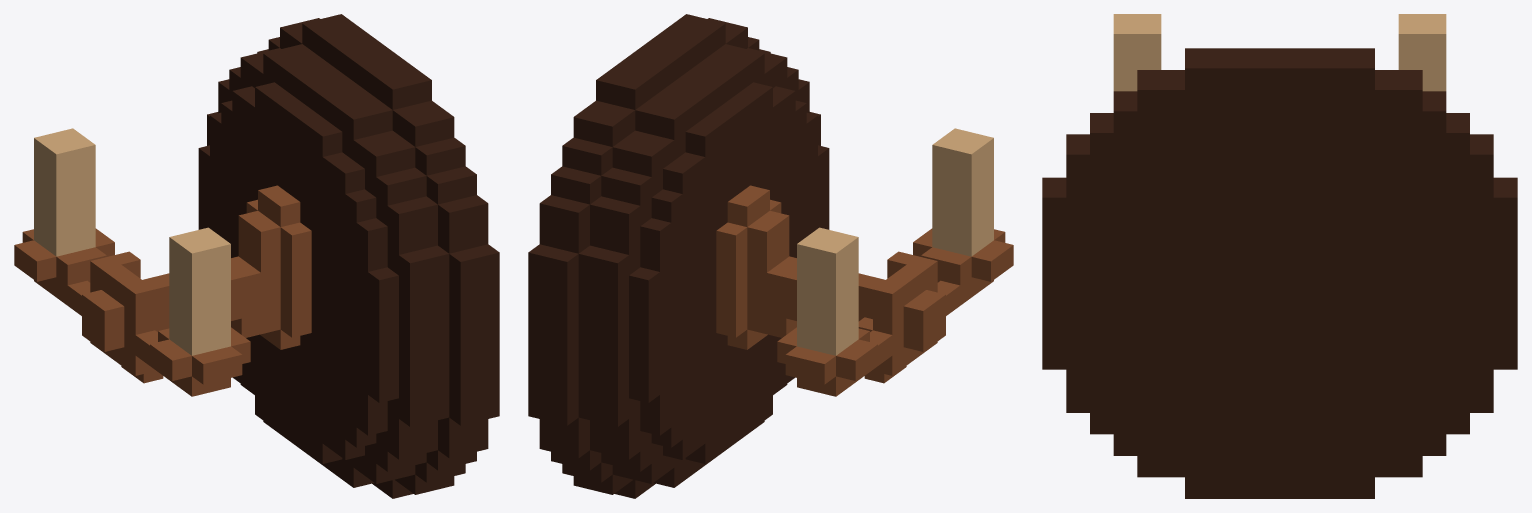
Rendered from chandelier03.obj.
The picture shows the model from 3 angles, left to right: view 1: azimuth 30°, elevation 25°; view 2: azimuth 150°, elevation 25°; view 3: azimuth 270°, elevation 25°; orthographic projection. The views are drawn at different scales.
Bounding box in the file's own units: 15 × 20 × 20.
Materials: 1 (1 with a texture image).
